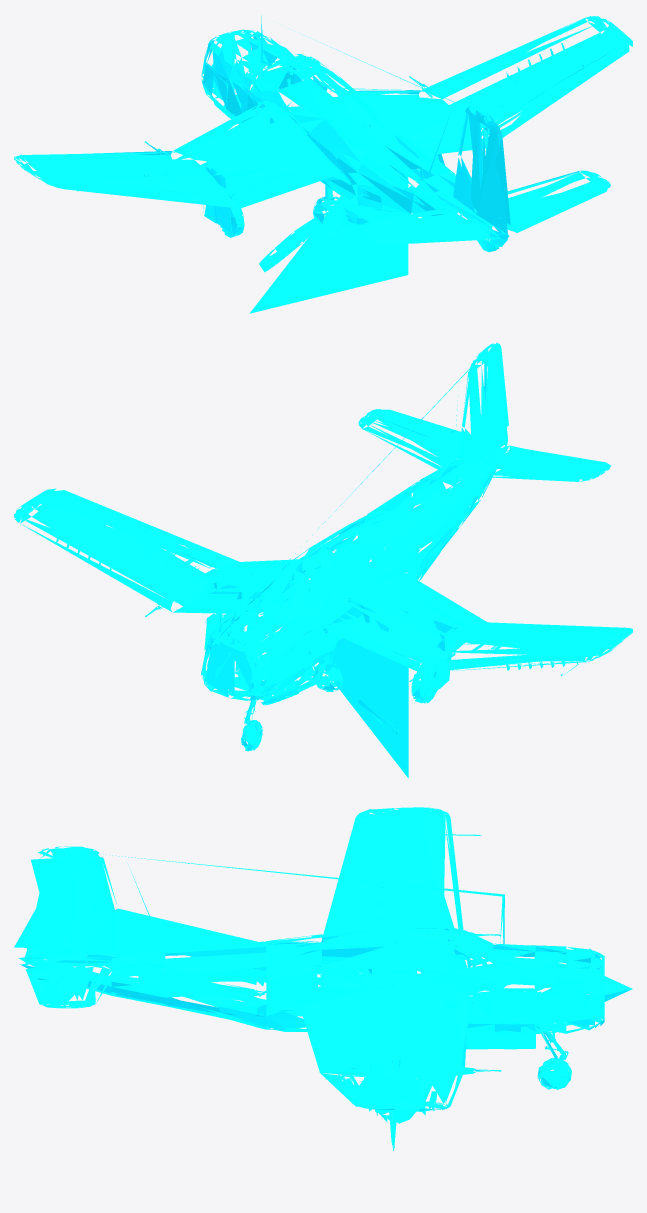
The model's file is PAAD990.glb.
3 views of the same model, one above another, from view 1: azimuth 30°, elevation 25°; view 2: azimuth 150°, elevation 25°; view 3: azimuth 270°, elevation 25° (orthographic). The views are drawn at different scales.
Visible parts, largest first — view 1: misc; view 2: misc; view 3: misc.
Part boxes in pixels (x1,y1,x2,y2): misc: [14, 15, 632, 313]; misc: [14, 342, 632, 778]; misc: [14, 807, 632, 1150].
Bounding box in the file's own units: 0.9015 × 0.4336 × 0.7816.
